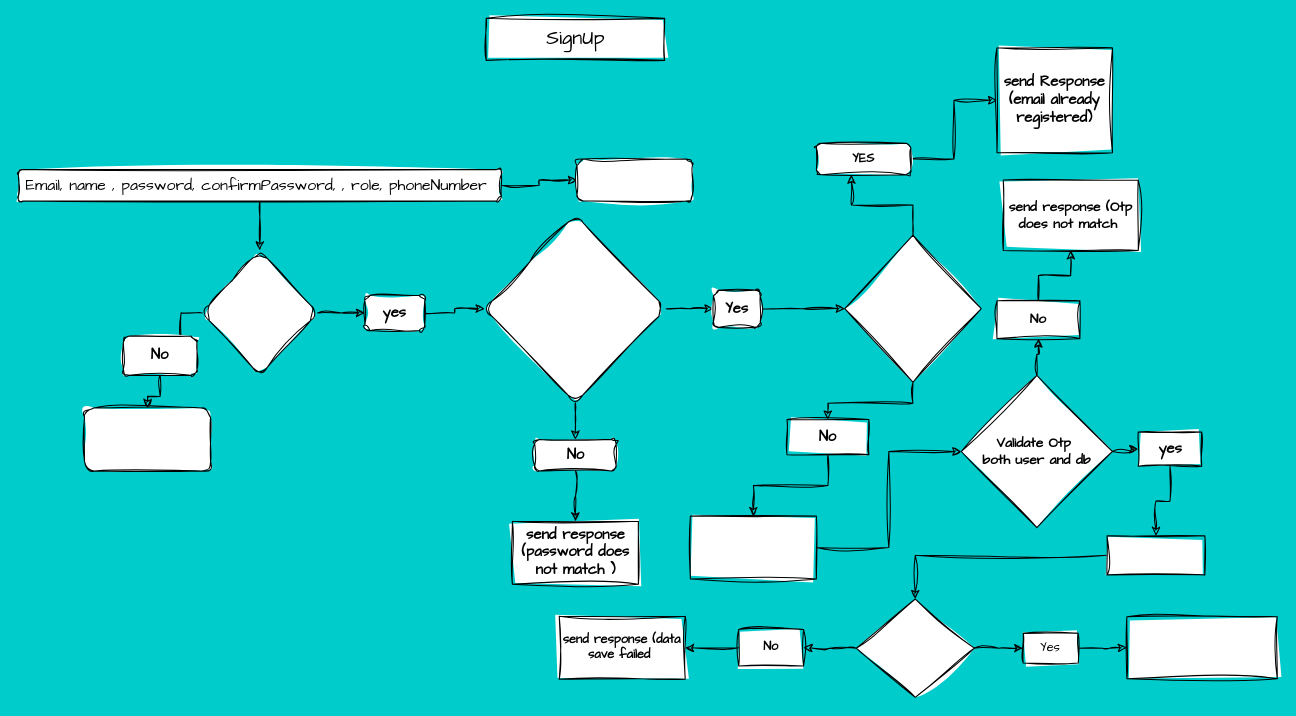
Some shapes in this 1296 by 716 pixel diagram are drawn without their labels. Here are the shapes that lost their labels. From the top down, the centre of each, then its label:
the point at 634,179: from req bidy
the point at 259,312: validate input data
the point at 575,308: checking password and confirm Password Both are equal ot not
the point at 912,308: Check Email from USer Databse
the point at 147,439: send response (all fields are required)
the point at 752,547: Find most recent otp from OTP databse
the point at 1155,555: hash password from bcrypt lib
the point at 914,647: save data in DB
the point at 1201,647: send response (user create successfully
